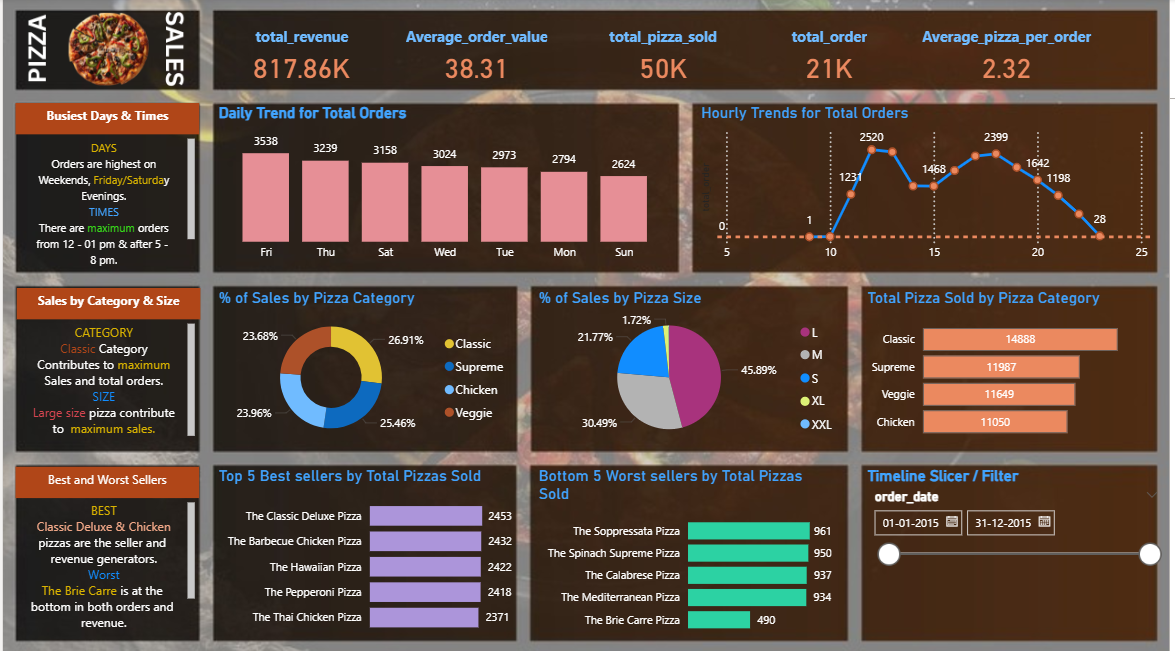

What the dashboard file says about the page in this screenshot:
{"tool":"powerbi","page":{"name":"Page 2","canvas":[1280,720],"ordinal":0},"visuals":[{"type":"cardVisual","fields":{"Data":["pizza_sales - pizza_sales.total_revenue"]},"box":[231.9,13.7,192.1,87.8],"z":0},{"type":"cardVisual","fields":{"Data":["pizza_sales - pizza_sales.Average_order_value"]},"box":[424,13.7,192.1,87.8],"z":1000},{"type":"cardVisual","fields":{"Data":["pizza_sales - pizza_sales.total_pizza_sold"]},"box":[628.5,13.7,192.1,87.8],"z":2000},{"type":"cardVisual","fields":{"Data":["pizza_sales - pizza_sales.total_order"]},"box":[811,13.7,192.1,87.8],"z":3000},{"type":"cardVisual","fields":{"Data":["pizza_sales - pizza_sales.Average_pizza_per_order"]},"box":[990.7,13.7,222.3,87.8],"z":4000},{"type":"clusteredColumnChart","title":"Daily Trend for Total Orders","fields":{"Y":["pizza_sales - pizza_sales.total_order"],"Category":["pizza_sales - pizza_sales.day_name"]},"box":[231.9,115.3,507.7,182.5],"z":5000},{"type":"lineChart","title":"Hourly Trends for Total Orders","fields":{"Category":["pizza_sales - pizza_sales.order_hour"],"Y":["pizza_sales - pizza_sales.total_order"]},"box":[761.3,115.8,503.1,182.2],"z":6000},{"type":"donutChart","title":"% of Sales by Pizza Category","fields":{"Category":["pizza_sales - pizza_sales.pizza_category"],"Y":["pizza_sales - pizza_sales.total_revenue"]},"box":[231.6,318.5,331.8,177.3],"z":7000},{"type":"donutChart","title":"% of Sales by Pizza Size","fields":{"Category":["pizza_sales - pizza_sales.pizza_size"],"Y":["pizza_sales - pizza_sales.total_revenue"]},"box":[582.7,318.5,341.4,177.3],"z":8000},{"type":"clusteredBarChart","title":"Total Pizza Sold by Pizza Category","fields":{"Category":["pizza_sales - pizza_sales.pizza_category"],"Y":["pizza_sales - pizza_sales.total_pizza_sold"]},"box":[944.6,318.5,319.7,177.3],"z":9000},{"type":"barChart","title":"Top 5 Best sellers by Total Pizzas Sold","fields":{"Category":["pizza_sales - pizza_sales.pizza_name"],"Y":["pizza_sales - pizza_sales.total_pizza_sold"]},"box":[231.9,514.6,332.1,193.5],"z":10000},{"type":"barChart","title":"Bottom 5 Worst sellers by Total Pizzas Sold","fields":{"Category":["pizza_sales - pizza_sales.pizza_name"],"Y":["pizza_sales - pizza_sales.total_pizza_sold"]},"box":[582.7,515.2,331.8,193],"z":11000},{"type":"slicer","title":"Timeline Slicer / Filter","fields":{"Values":["pizza_sales - pizza_sales.order_date"]},"box":[944.1,514.6,336.2,193.5],"z":12000},{"type":"textbox","box":[13.7,115.3,201.7,34.3],"z":13000},{"type":"textbox","box":[13.7,149.6,201.7,149.6],"z":14000},{"type":"textbox","box":[15.1,318.4,201.7,34.3],"z":15000},{"type":"textbox","box":[13.7,352.7,201.7,149.6],"z":16000},{"type":"textbox","box":[13.7,514.6,201.7,34.3],"z":17000},{"type":"textbox","box":[13.7,548.9,201.7,159.2],"z":18000}]}

Visuals, with their boxes in screenshot pixels (x1, y1, x2, y2), scaled from the page's 1280x720 canvas onto the 1175x651 screenshot:
cardVisual - pizza_sales - pizza_sales.total_revenue: x1=213, y1=12, x2=389, y2=92
cardVisual - pizza_sales - pizza_sales.Average_order_value: x1=389, y1=12, x2=566, y2=92
cardVisual - pizza_sales - pizza_sales.total_pizza_sold: x1=577, y1=12, x2=753, y2=92
cardVisual - pizza_sales - pizza_sales.total_order: x1=744, y1=12, x2=921, y2=92
cardVisual - pizza_sales - pizza_sales.Average_pizza_per_order: x1=909, y1=12, x2=1113, y2=92
"Daily Trend for Total Orders" clusteredColumnChart: x1=213, y1=104, x2=679, y2=269
"Hourly Trends for Total Orders" lineChart: x1=699, y1=105, x2=1161, y2=269
"% of Sales by Pizza Category" donutChart: x1=213, y1=288, x2=517, y2=448
"% of Sales by Pizza Size" donutChart: x1=535, y1=288, x2=848, y2=448
"Total Pizza Sold by Pizza Category" clusteredBarChart: x1=867, y1=288, x2=1161, y2=448
"Top 5 Best sellers by Total Pizzas Sold" barChart: x1=213, y1=465, x2=518, y2=640
"Bottom 5 Worst sellers by Total Pizzas Sold" barChart: x1=535, y1=466, x2=839, y2=640
"Timeline Slicer / Filter" slicer: x1=867, y1=465, x2=1174, y2=640
textbox: x1=13, y1=104, x2=198, y2=135
textbox: x1=13, y1=135, x2=198, y2=271
textbox: x1=14, y1=288, x2=199, y2=319
textbox: x1=13, y1=319, x2=198, y2=454
textbox: x1=13, y1=465, x2=198, y2=496
textbox: x1=13, y1=496, x2=198, y2=640
